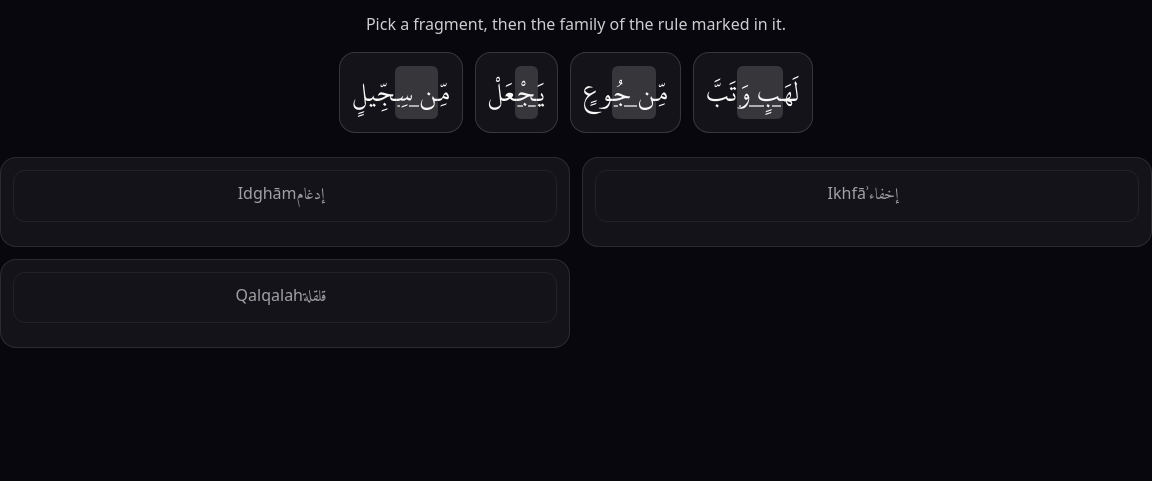
Test: FamilySorter — assignment › says so in words, not by colour alone
Click the button with test id "fragment-ikhfa-1": (626, 92) left=570, top=52, right=681, bottom=133
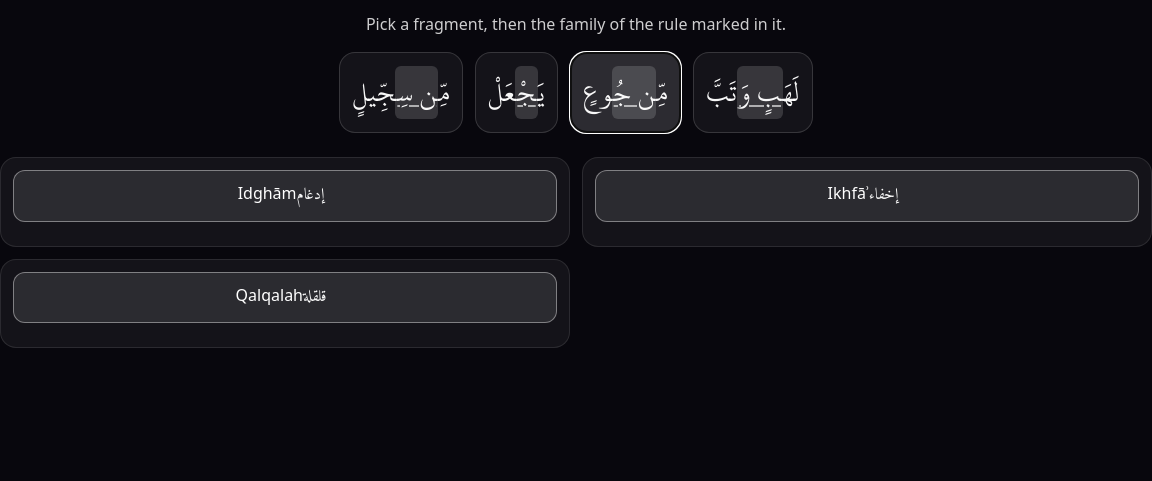
Click the button with aria-label "Place in Ikhfāʾ": (867, 196) left=595, top=170, right=1139, bottom=222
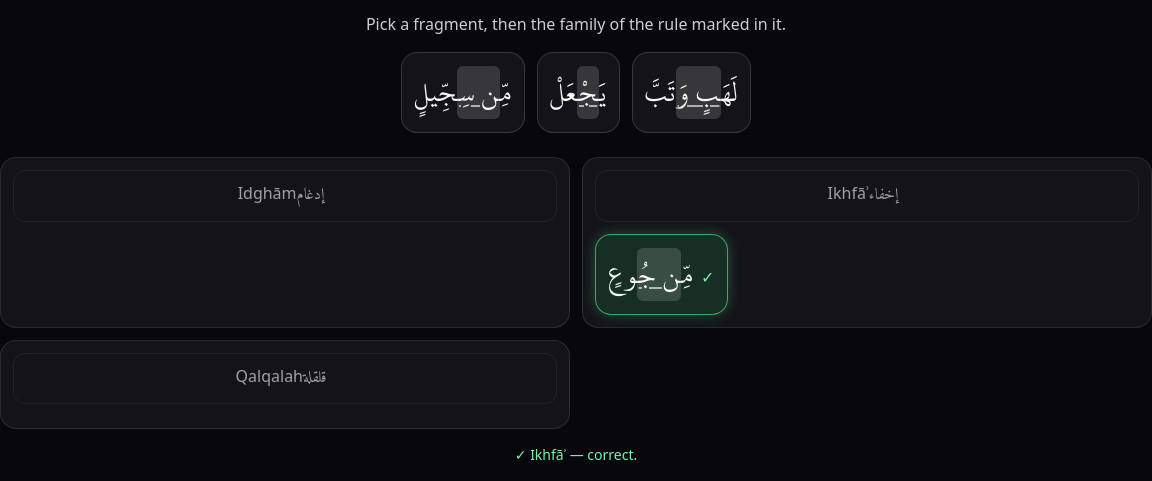
Expected: the message shows "Ikhfāʾ", left=530, top=445, right=566, bottom=464
